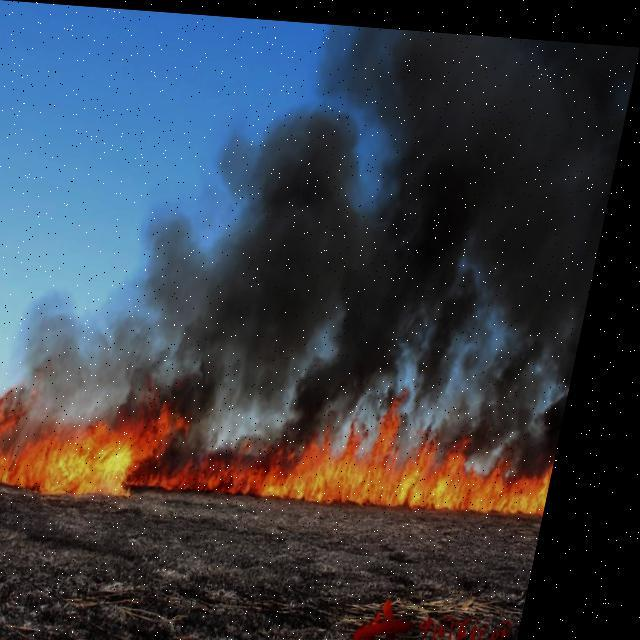Fire: (0, 378, 574, 522)
